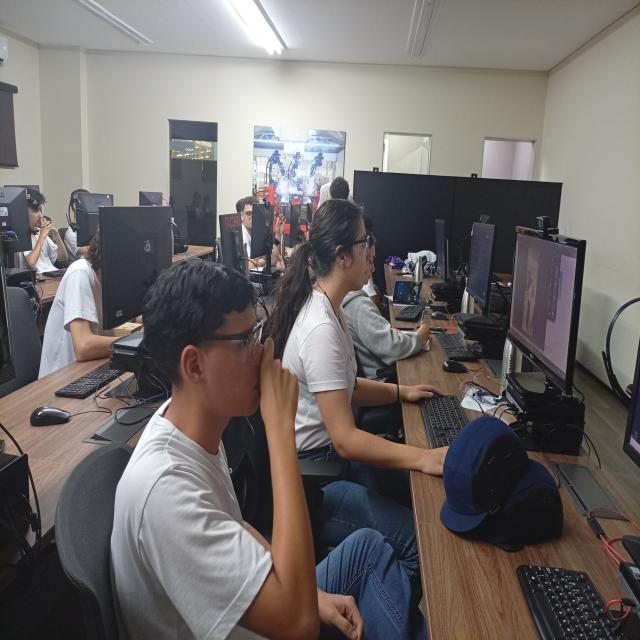oculos-epi: (190, 318, 263, 363), (344, 235, 370, 257)
sem_oculos: (26, 199, 44, 222), (242, 206, 258, 218)
